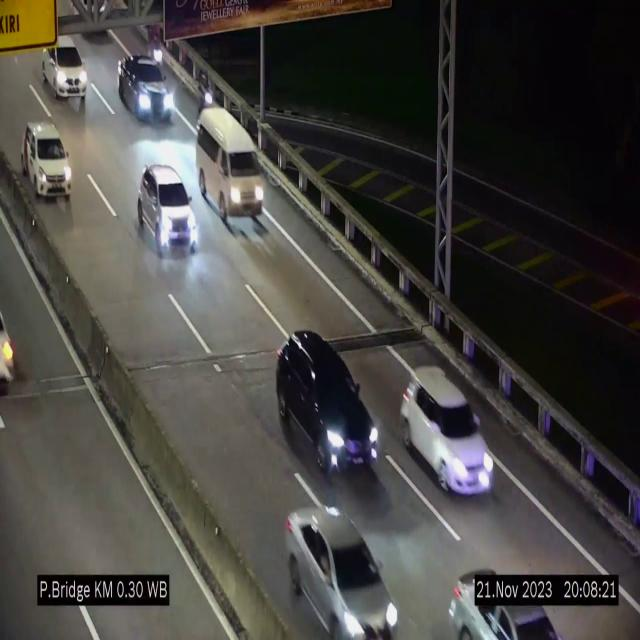Car: (286, 507, 400, 638), (277, 329, 378, 475), (400, 366, 495, 494), (444, 561, 554, 640), (198, 108, 266, 230), (136, 161, 202, 254), (40, 31, 96, 108), (118, 54, 176, 125), (22, 123, 72, 198)
Motorcycle: (148, 29, 163, 69), (199, 71, 212, 116)
